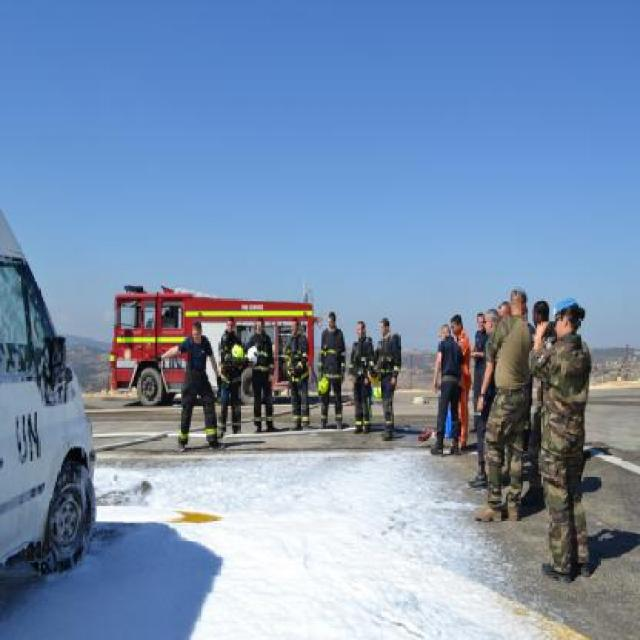truck: (2, 243, 93, 577)
